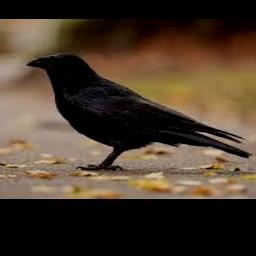Crow: (25, 53, 252, 172)
